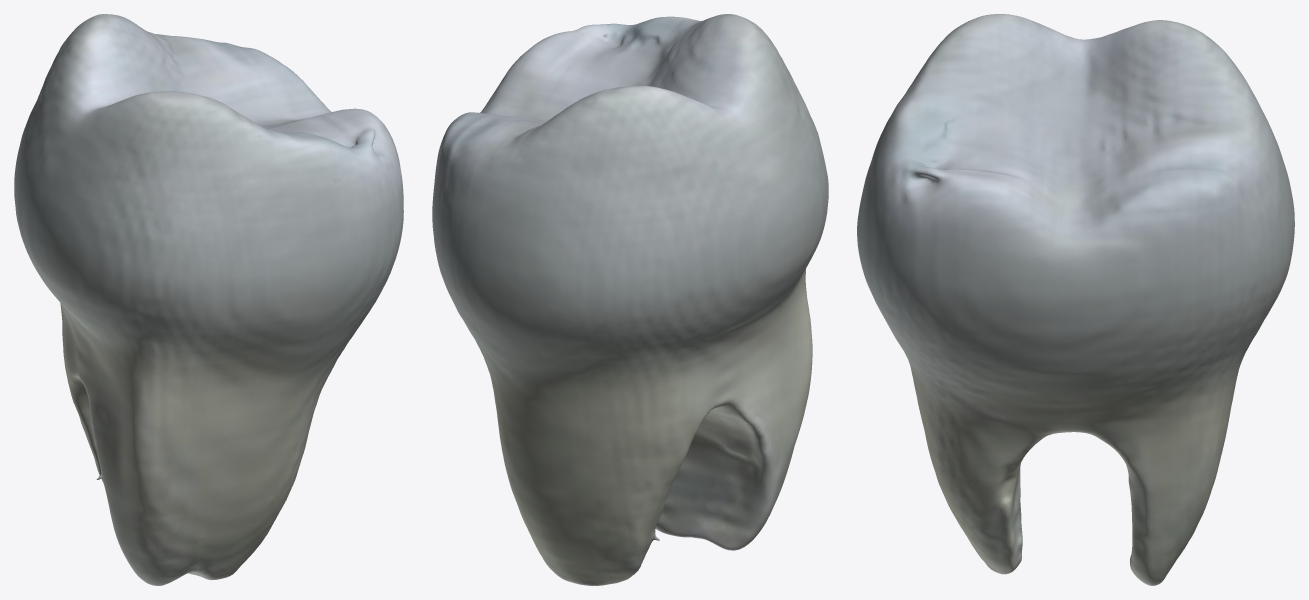
Rendered from diente.glb.
The picture shows the model from 3 angles, left to right: view 1: azimuth 30°, elevation 25°; view 2: azimuth 150°, elevation 25°; view 3: azimuth 270°, elevation 25°; orthographic projection. The views are drawn at different scales.
Visible parts, largest first — view 1: world; view 2: world; view 3: world.
Part boxes in pixels (bbox=[...]): world: bbox=[14, 14, 403, 585]; world: bbox=[432, 14, 828, 585]; world: bbox=[857, 14, 1294, 585].
Size of the model in its own units: 0.3617 by 0.5502 by 0.4178.
1 material, 1 textured.
